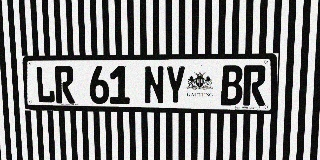1: (109, 66, 130, 104)
6: (89, 66, 109, 104)
B: (221, 65, 243, 106)
L: (35, 66, 55, 103)
N: (144, 66, 164, 105)
R: (243, 65, 266, 106), (54, 66, 75, 103)
Y: (165, 66, 186, 105)
